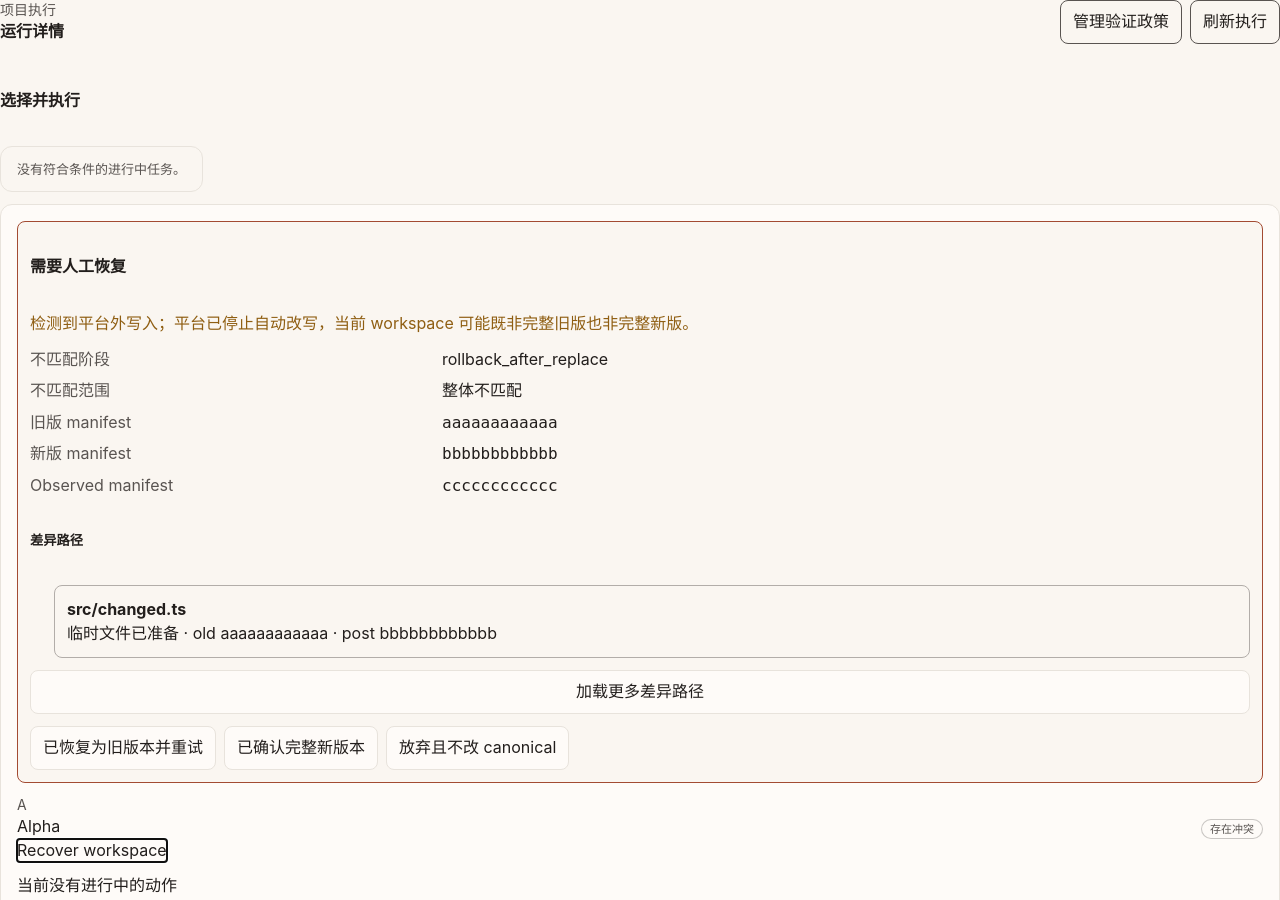
Test case: T-30 manual recovery UI › refreshes the observed manifest and clears confirmation after mismatch
Click the button "放弃且不改 canonical": point(478, 748) 386,726 -> 569,770
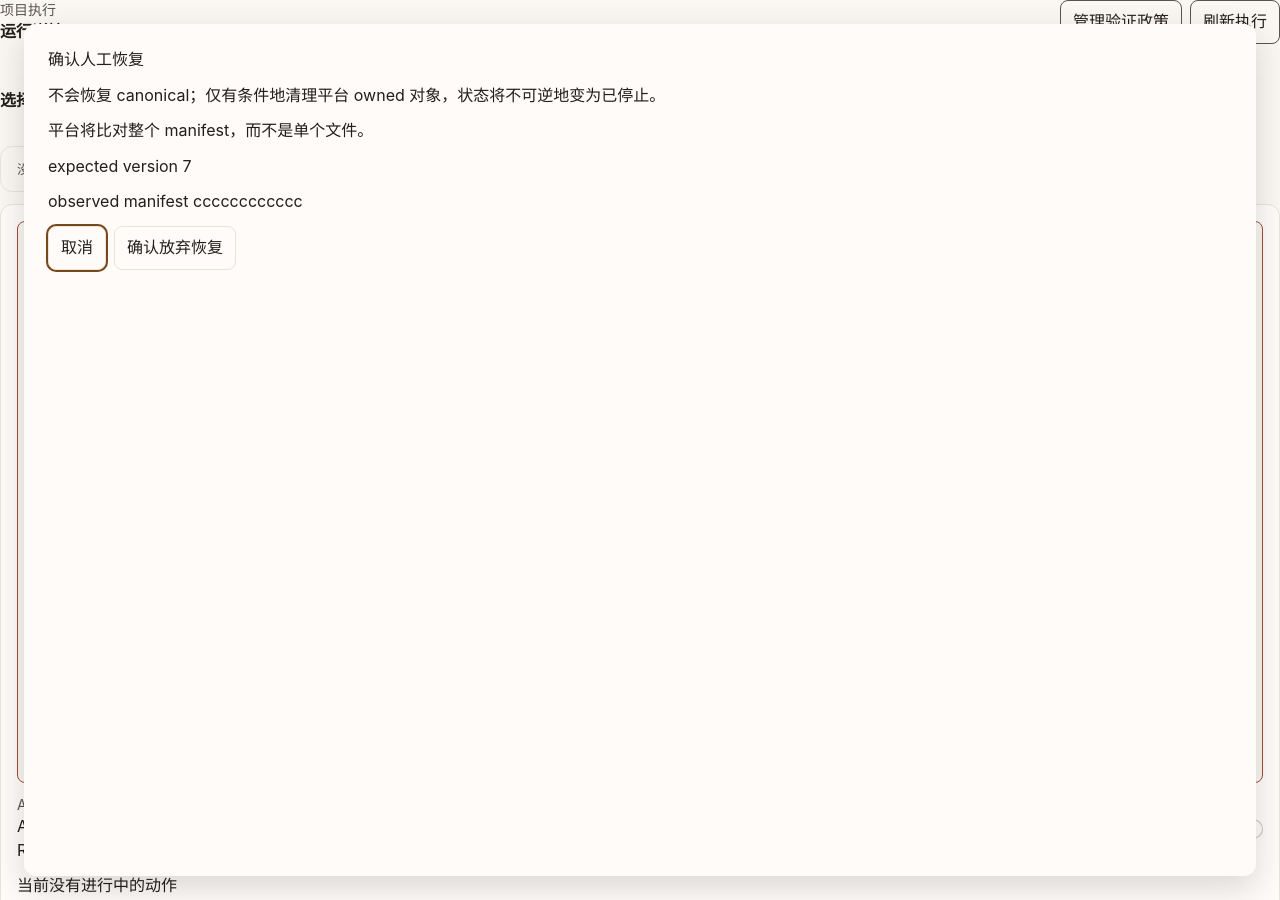
Click the button "确认放弃恢复": point(175, 248) 114,226 -> 236,270
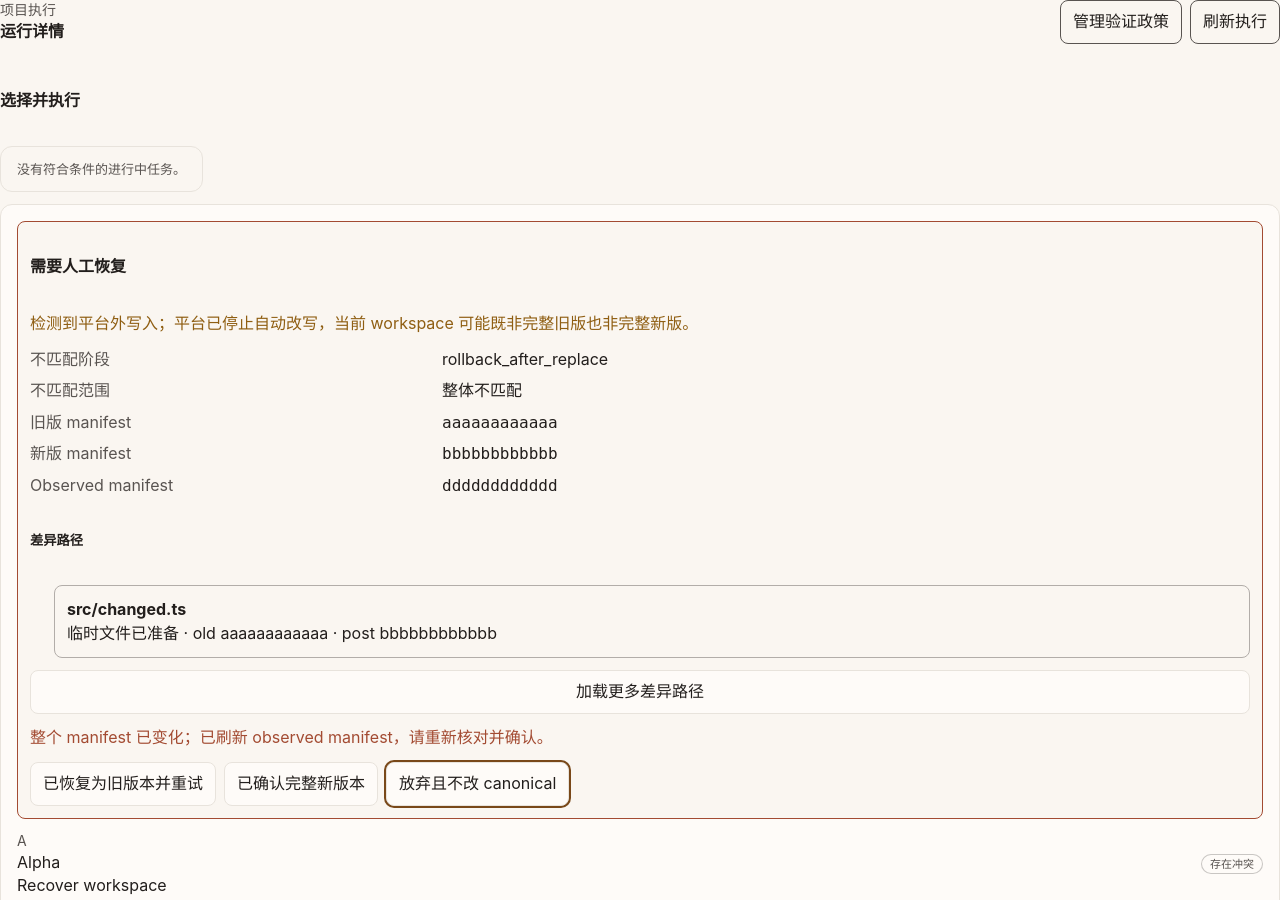
Check: the heading "确认人工恢复" is gone
Check: the message shows "manifest", box 30,727 -> 553,747
